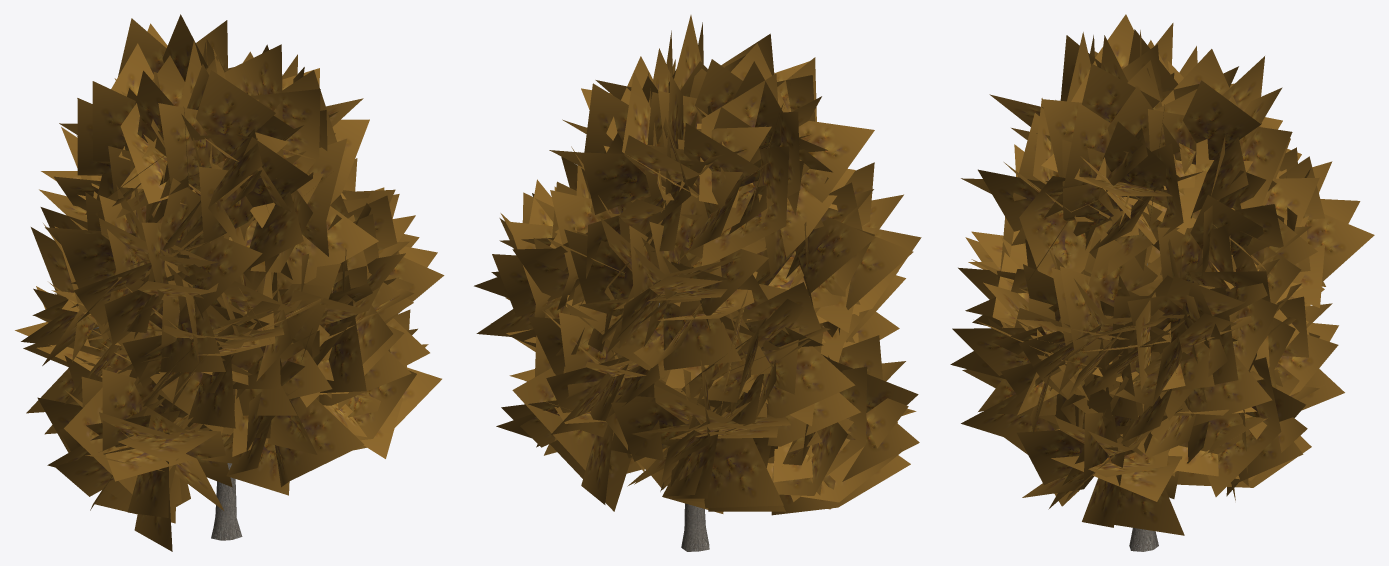
File: Fraxinus_Excelsior_Autumn_Young.glb
The picture shows the model from 3 angles, left to right: view 1: azimuth 30°, elevation 25°; view 2: azimuth 150°, elevation 25°; view 3: azimuth 270°, elevation 25°; orthographic projection.
Parts seen in each view (by area): view 1: Fraxinus_Excelsior_Autumn_Young__LOD3; view 2: Fraxinus_Excelsior_Autumn_Young__LOD3; view 3: Fraxinus_Excelsior_Autumn_Young__LOD3.
Boxes of the visible parts, bbox=[...] form: Fraxinus_Excelsior_Autumn_Young__LOD3: bbox=[15, 14, 444, 551]; Fraxinus_Excelsior_Autumn_Young__LOD3: bbox=[474, 15, 921, 551]; Fraxinus_Excelsior_Autumn_Young__LOD3: bbox=[950, 14, 1374, 551].
Bounding box in the file's own units: 8.68 × 10.79 × 8.36.
Materials: 2 (2 with a texture image).
